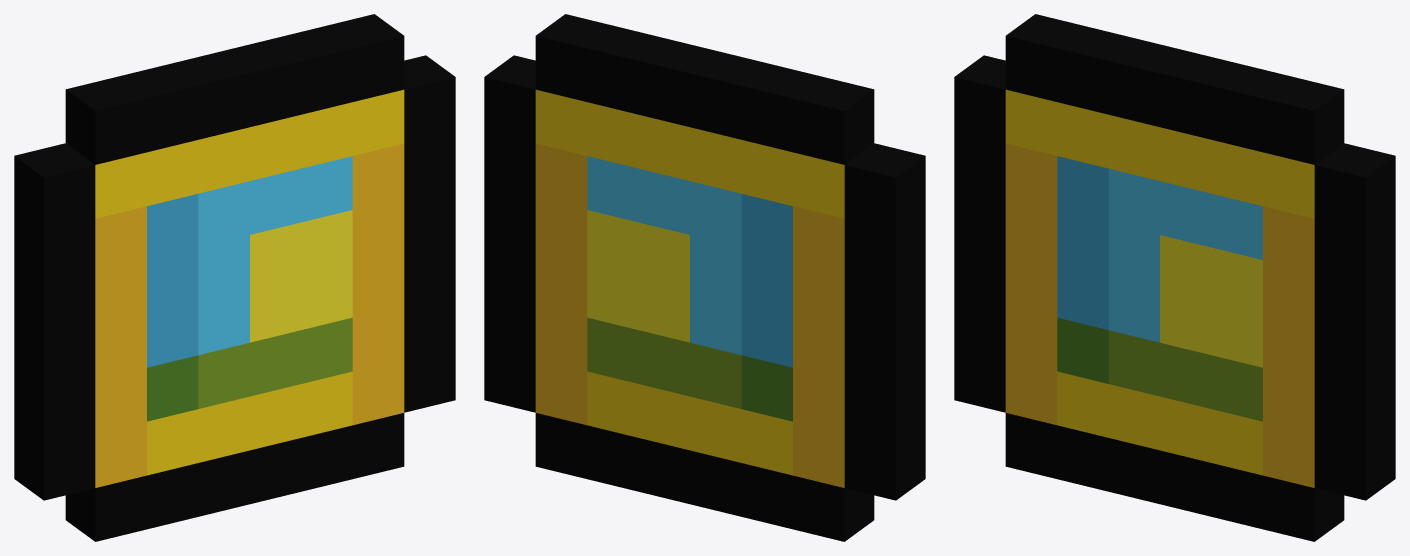
File: clock_gold_late_day.glb
3 renders of one model, left to right at view 1: azimuth 30°, elevation 25°; view 2: azimuth 150°, elevation 25°; view 3: azimuth 330°, elevation 25°, orthographic.
Visible parts, largest first — view 1: generated(Clone); view 2: generated(Clone); view 3: generated(Clone).
Boxes of the visible parts, <box> form: generated(Clone): <box>14,14,455,541</box>; generated(Clone): <box>484,14,925,541</box>; generated(Clone): <box>954,14,1395,541</box>.
Size of the model in its own units: 8 by 8 by 1.
1 material, 1 textured.
